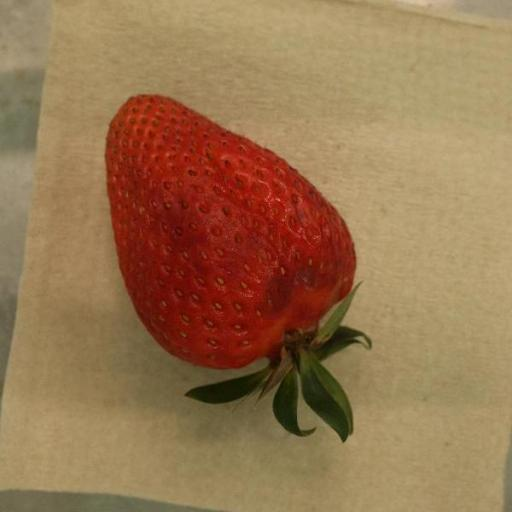Strawberry: (104, 95, 371, 444)
